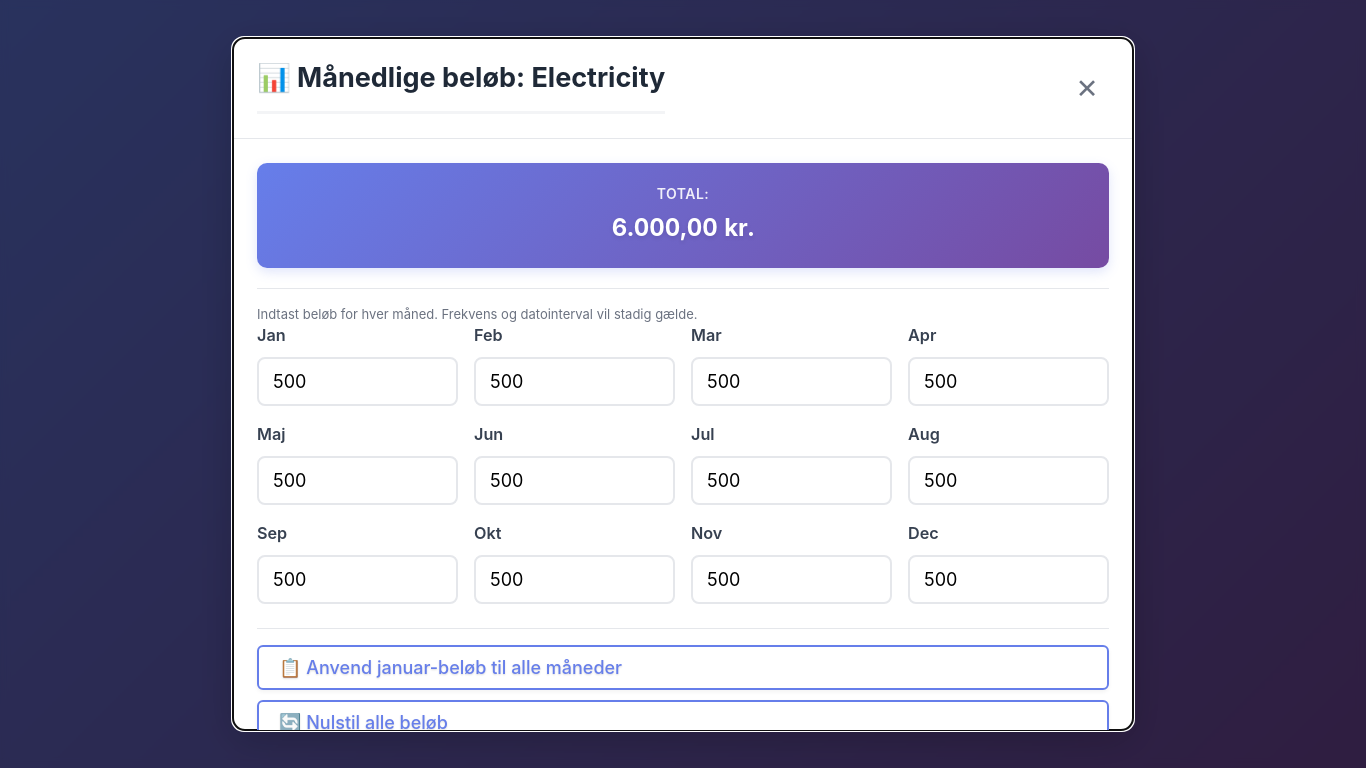
MonthlyAmountsModal › resets all amounts to 0
The image size is (1366, 768).
Click the button "🔄 Nulstil alle beløb" at (363, 722), box [257,700,1109,744]
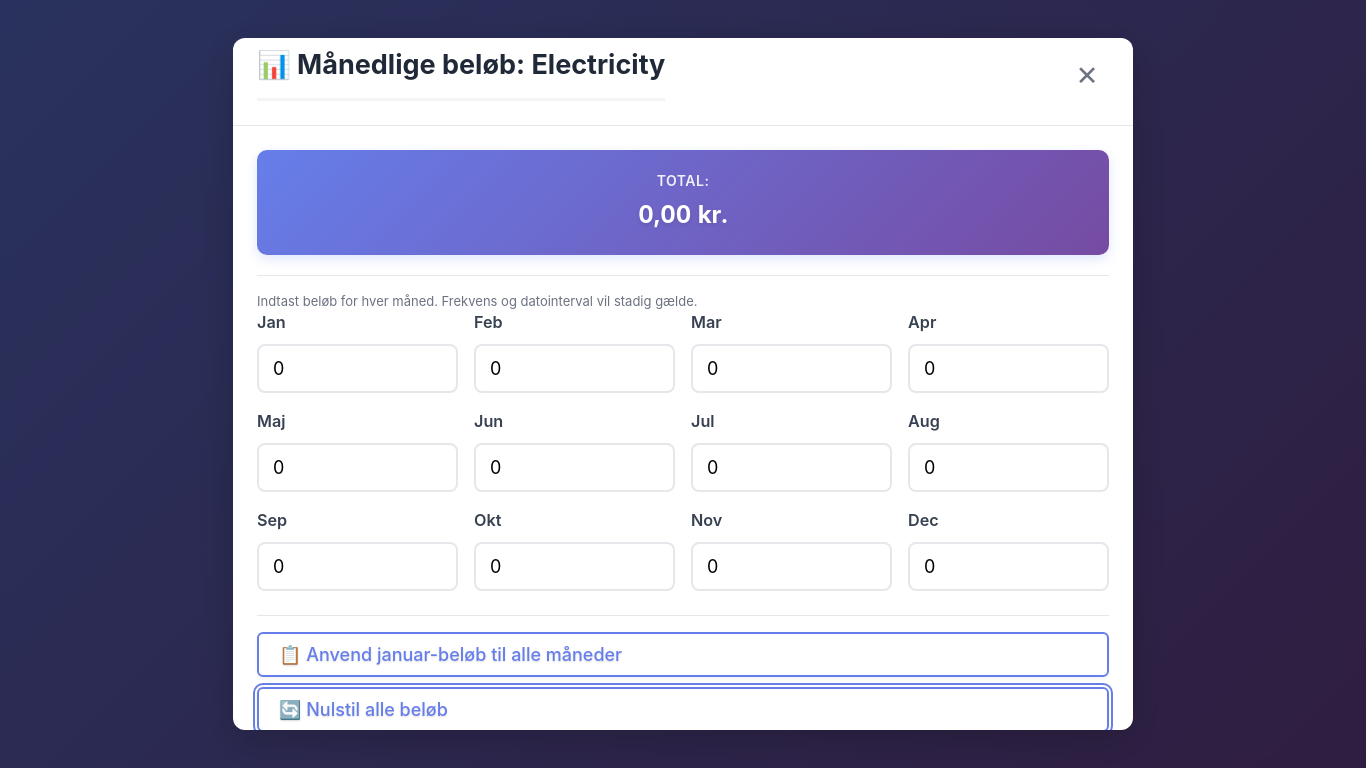
Expected: the field labelled "Jan" holds "0", [257,344,458,393]
Expected: the field labelled "Feb" holds "0", [474,344,675,393]
Expected: the field labelled "Mar" holds "0", [691,344,892,393]
